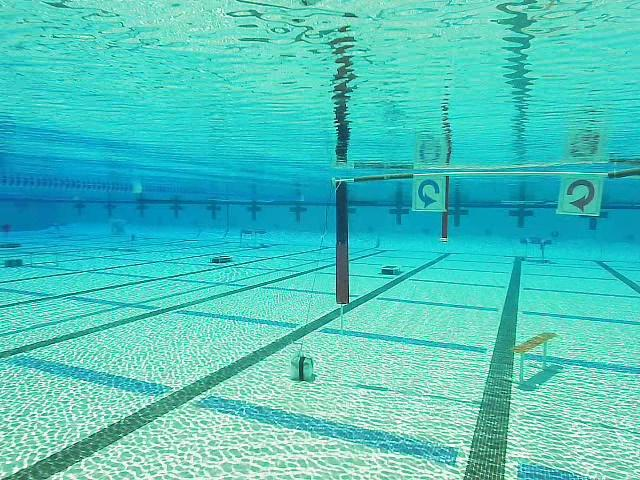dropper: (210, 251, 233, 266), (378, 263, 403, 275)
gate_blue: (413, 177, 447, 213)
gate_leg_l: (335, 176, 351, 307)
gate_red: (561, 175, 603, 216)
table: (521, 237, 553, 264)
torpedo: (108, 219, 128, 237)
